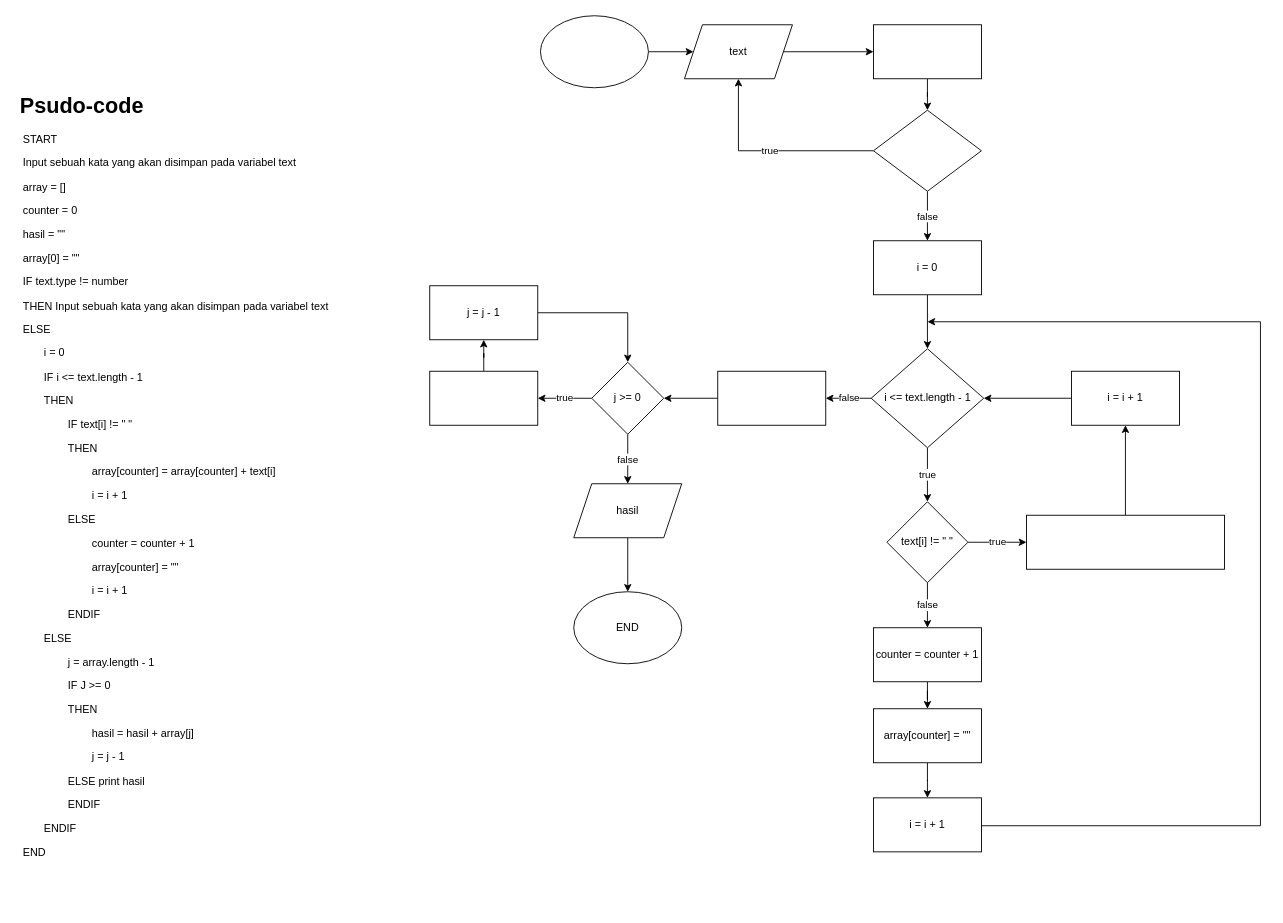
Some shapes in this 1283 by 923 pixel diagram are drawn without their labels. The shapes that lost their labels are listed below. From the top down, each one's box as (x1, y1, x2, y2) in pixels, then its label:
(540, 15, 648, 88): START
(873, 24, 981, 79): array = [] counter = 0 hasil = "" array[0] = ""
(873, 109, 981, 191): text.type != number
(429, 370, 538, 425): hasil = hasil + array[j]
(717, 370, 826, 425): j = array.legth - 1
(1026, 514, 1224, 569): array[counter] = array[counter] + text[i]
